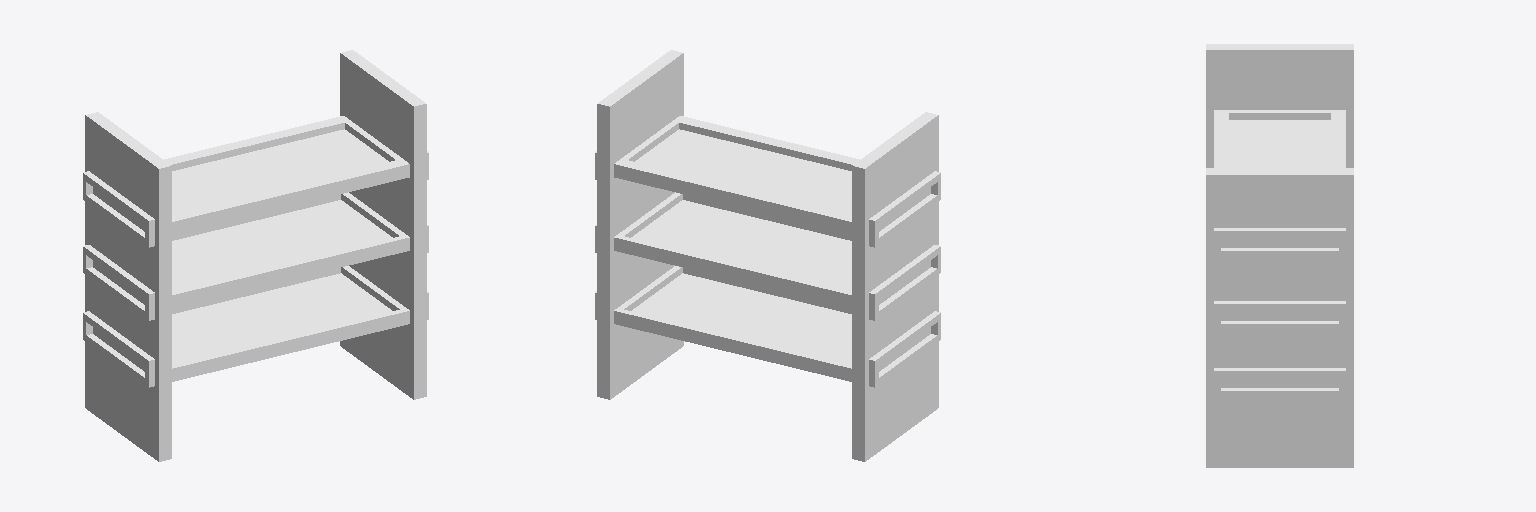
Rendered from Shelves.obj.
3 views of the same model, side by side, from view 1: azimuth 30°, elevation 25°; view 2: azimuth 150°, elevation 25°; view 3: azimuth 270°, elevation 25° (orthographic).
Visible parts, largest first — view 1: object 1; view 2: object 1; view 3: object 1.
Part boxes in pixels (x1,y1,x2,y2): object 1: (83,50,428,461); object 1: (595,50,940,461); object 1: (1206,44,1353,467).
Size of the model in its own units: 4.4 by 4.4 by 2.